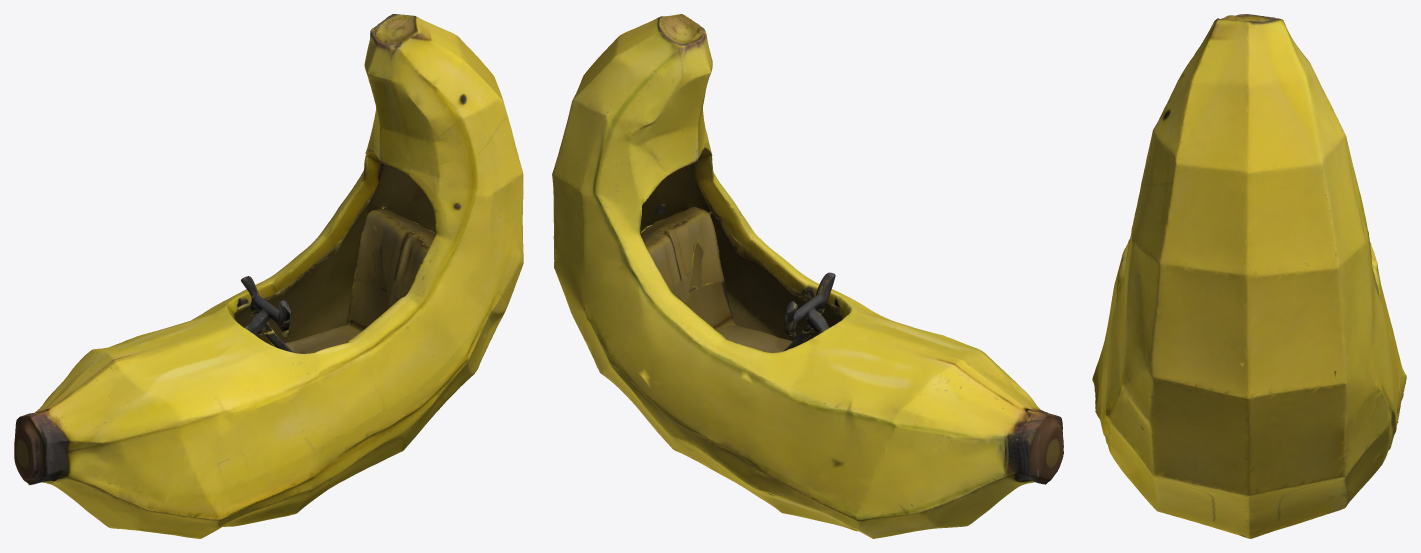
Rendered from Meshy_AI_banana_3d_0329211148_texture.glb.
3 views of the same model, side by side, from view 1: azimuth 30°, elevation 25°; view 2: azimuth 150°, elevation 25°; view 3: azimuth 270°, elevation 25° (orthographic). The views are drawn at different scales.
Bounding box in the file's own units: 2.01 × 1.77 × 0.8598.
1 material, 1 textured.
